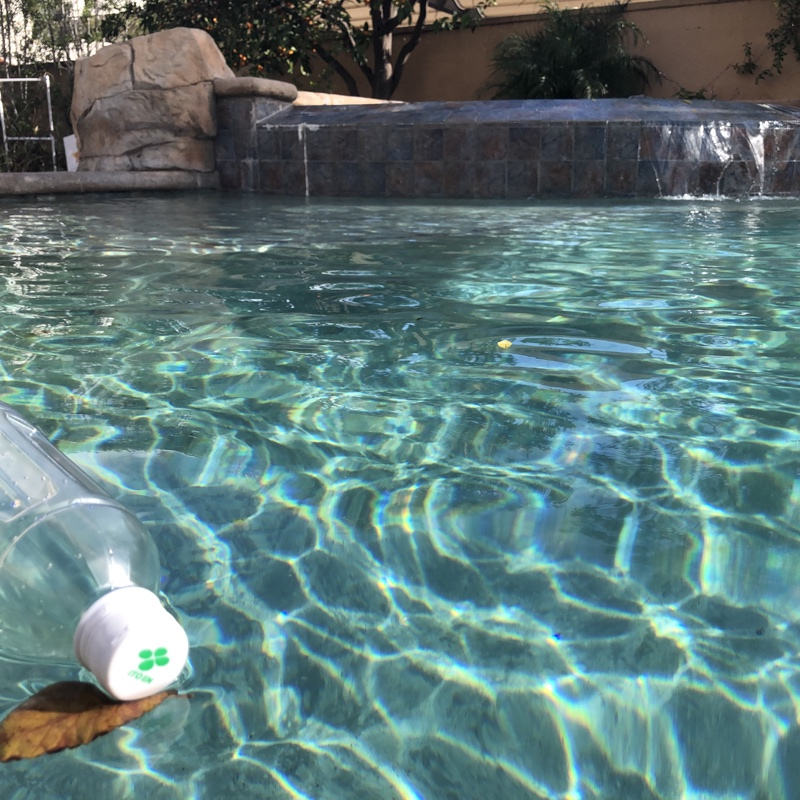Plastic Bottle: (1, 393, 195, 709)
